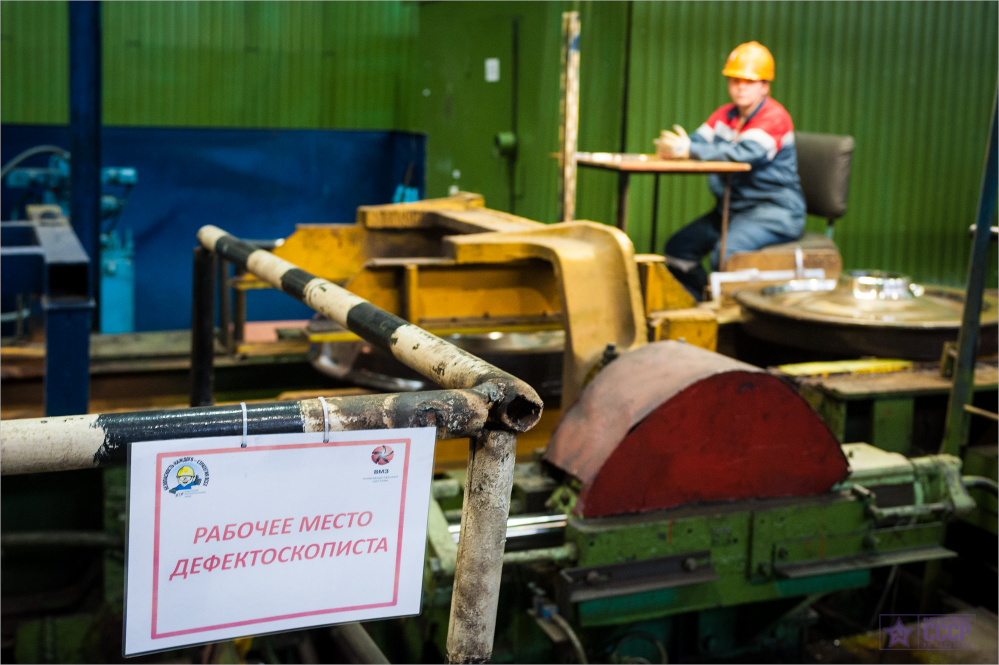person: (650, 41, 807, 302)
